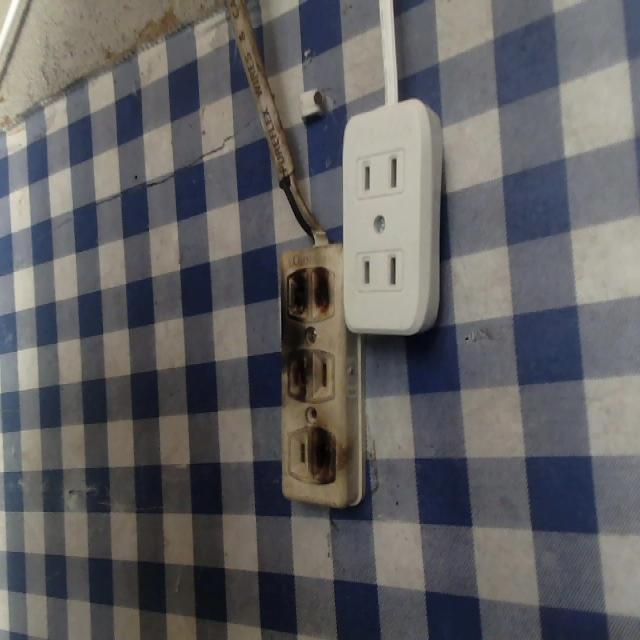-: (278, 264, 339, 325), (304, 419, 342, 485), (276, 344, 314, 404)
